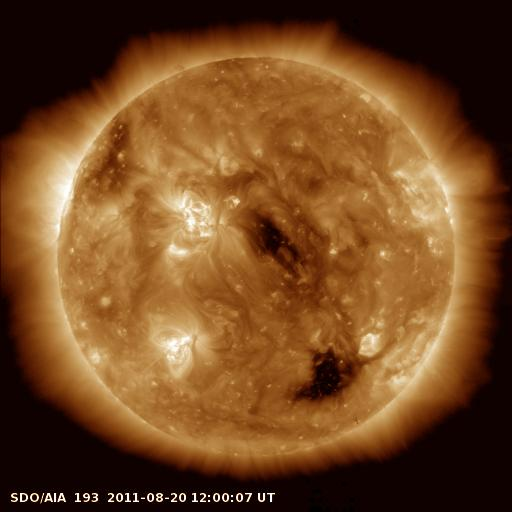coronal_hole: (288, 345, 353, 405), (247, 211, 304, 268)
